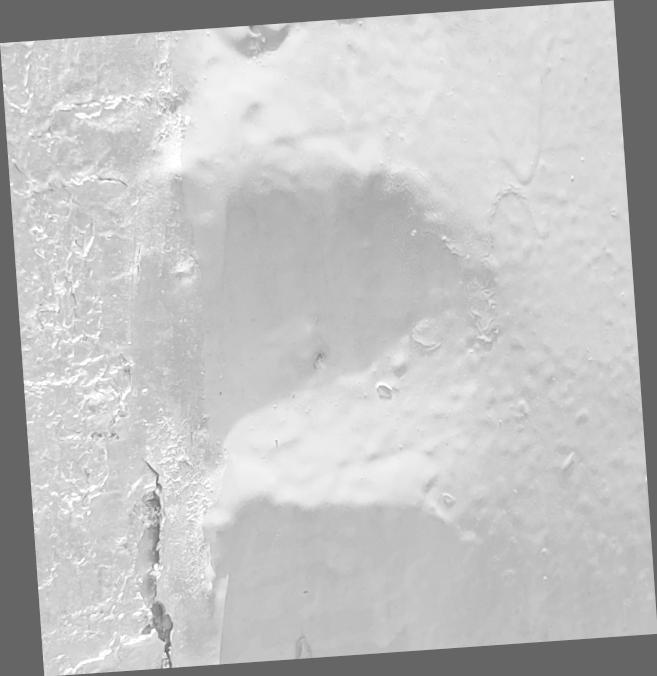dent: (0, 1, 657, 676)
